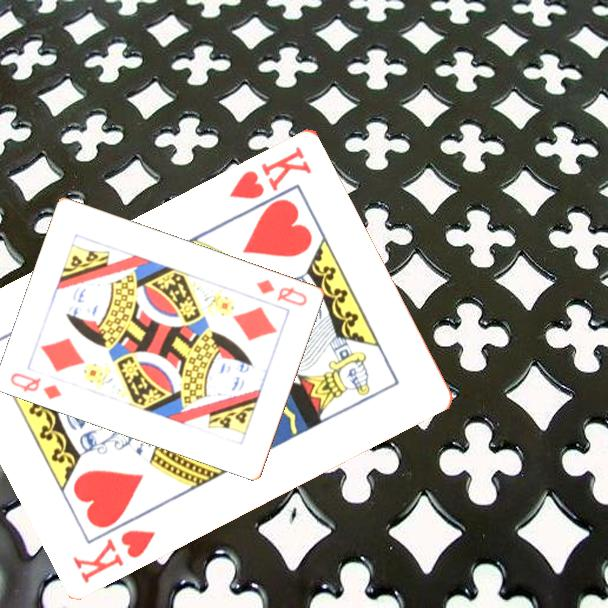d12: (253, 276, 311, 309), (7, 369, 65, 402)
h13: (69, 525, 159, 585), (226, 142, 315, 202)
